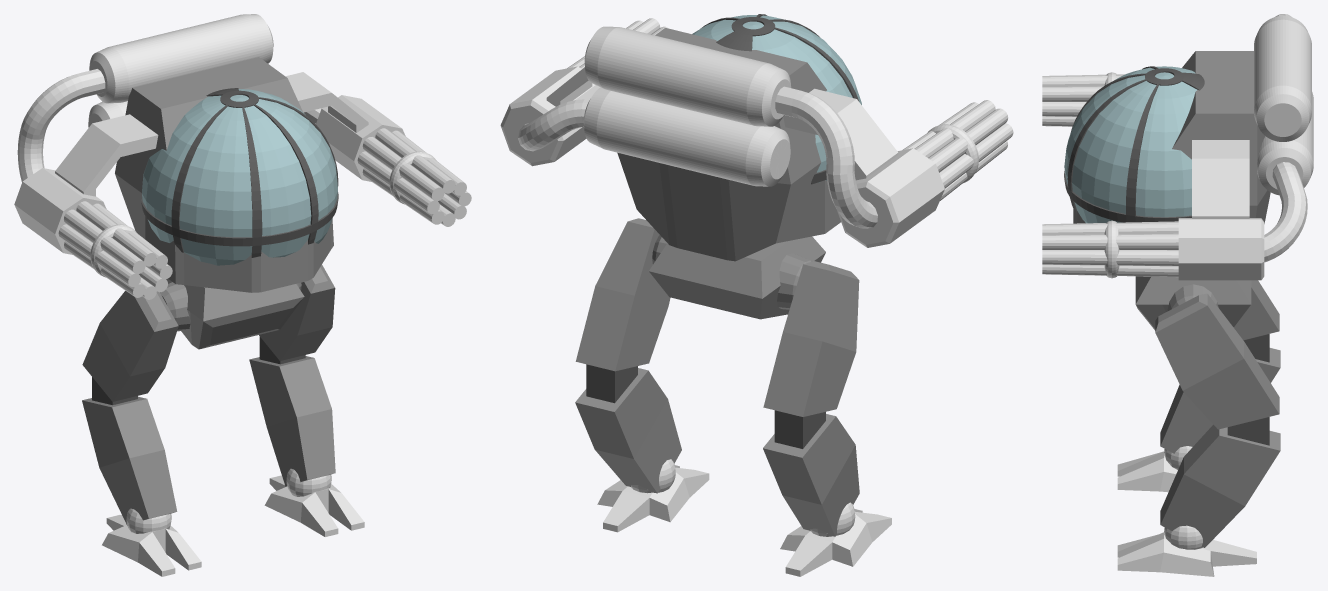
File: The Ostrich IV.fbx
The picture shows the model from 3 angles, left to right: view 1: azimuth 30°, elevation 25°; view 2: azimuth 150°, elevation 25°; view 3: azimuth 270°, elevation 25°; orthographic projection. The views are drawn at different scales.
Visible parts, largest first — view 1: Glass, Cockpit, Gun, Gun.001, Cylinder, Lower Leg.001, Lower Leg, Upper Leg, Pelvis, Arm, Glass Bars, Upper Leg.001 (+6 smaller); view 2: Cockpit, Cylinder, Cylinder.001, Gun, Upper Leg, Upper Leg.001, Pelvis, Lower Leg.001, Lower Leg, Torus, Glass, Gun.001 (+7 smaller); view 3: Glass, Gun.001, Upper Leg.001, Lower Leg.001, Cockpit, Cylinder, Arm, Foot.001, Glass Bars, Pelvis, Gun, Torus.001 (+7 smaller).
Part boxes in pixels (bbox=[...]): Glass: bbox=[142, 89, 337, 265]; Cockpit: bbox=[115, 57, 333, 292]; Gun: bbox=[14, 168, 172, 299]; Gun.001: bbox=[316, 95, 471, 226]; Cylinder: bbox=[89, 14, 273, 103]; Lower Leg.001: bbox=[249, 356, 335, 486]; Lower Leg: bbox=[82, 396, 177, 525]; Upper Leg: bbox=[82, 291, 178, 401]; Pelvis: bbox=[160, 278, 304, 349]; Arm: bbox=[55, 72, 368, 196]; Glass Bars: bbox=[141, 88, 338, 257]; Upper Leg.001: bbox=[259, 265, 335, 360]; Cockpit: bbox=[617, 28, 840, 261]; Cylinder: bbox=[584, 26, 791, 126]; Cylinder.001: bbox=[583, 87, 790, 186]; Gun: bbox=[836, 100, 1013, 247]; Upper Leg: bbox=[763, 261, 859, 416]; Upper Leg.001: bbox=[575, 218, 670, 371]; Pelvis: bbox=[649, 235, 825, 319]; Lower Leg.001: bbox=[575, 368, 681, 493]; Lower Leg: bbox=[763, 414, 859, 536]; Torus: bbox=[775, 86, 877, 228]; Glass: bbox=[692, 15, 861, 182]; Gun.001: bbox=[500, 18, 668, 166]; Glass: bbox=[1064, 66, 1197, 223]; Gun.001: bbox=[1042, 218, 1264, 280]; Upper Leg.001: bbox=[1155, 293, 1279, 429]; Lower Leg.001: bbox=[1160, 424, 1280, 547]; Cockpit: bbox=[1073, 51, 1270, 223]; Cylinder: bbox=[1254, 16, 1311, 141]; Arm: bbox=[1192, 54, 1249, 218]; Foot.001: bbox=[1117, 532, 1256, 576]; Glass Bars: bbox=[1064, 66, 1204, 222]; Pelvis: bbox=[1135, 276, 1251, 330]; Gun: bbox=[1042, 72, 1124, 126]; Torus.001: bbox=[1264, 162, 1307, 262].
Size of the model in its own units: 449 by 556 by 292.
